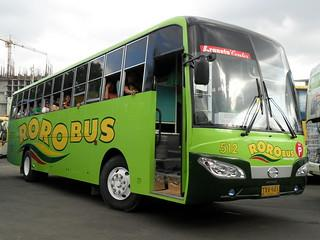bus: (3, 12, 308, 204)
